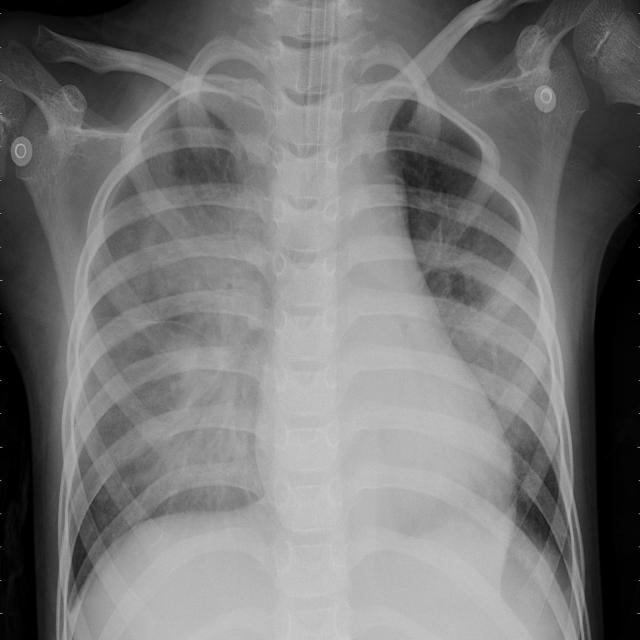low-pneumonia: (137, 200, 267, 492), (437, 277, 550, 442)
